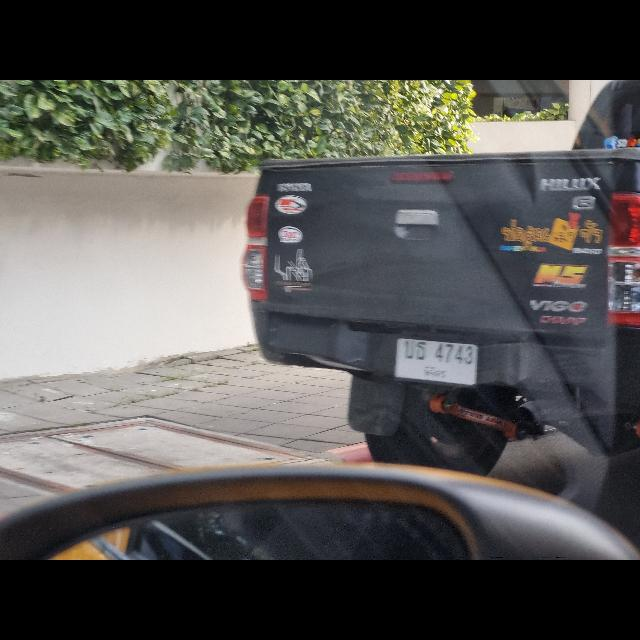licenseplate: (392, 336, 478, 386)
